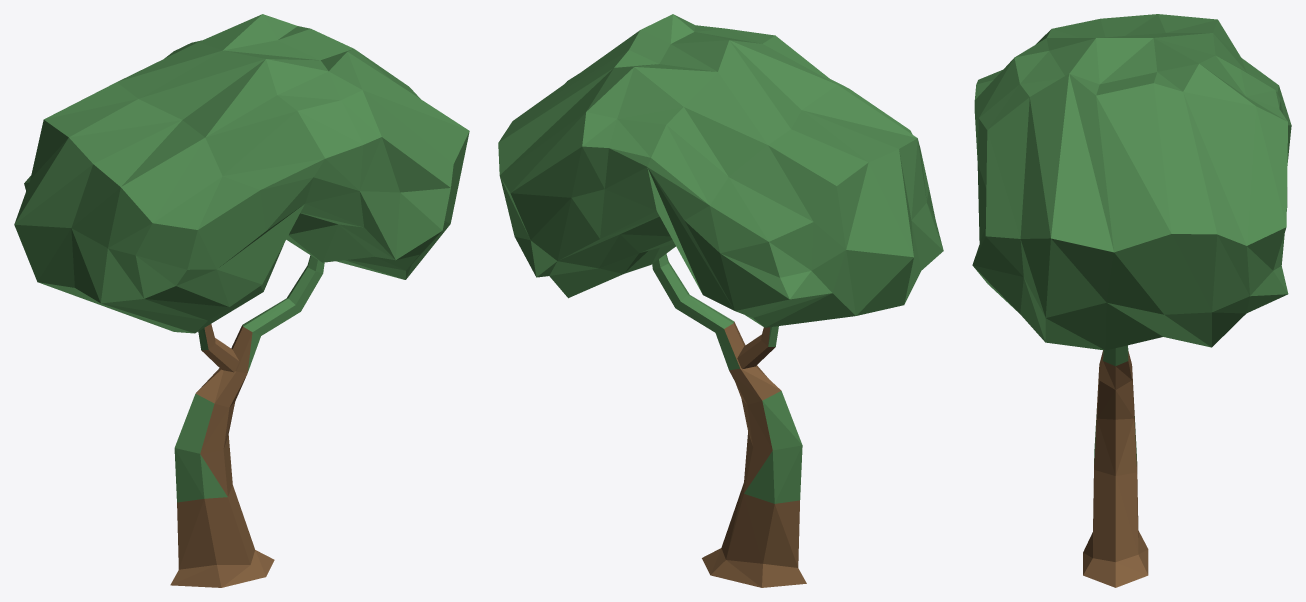
Rendered from tree3d-050.glb.
3 renders of one model, left to right at view 1: azimuth 30°, elevation 25°; view 2: azimuth 150°, elevation 25°; view 3: azimuth 270°, elevation 25°, orthographic. The views are drawn at different scales.
Parts seen in each view (by area): view 1: tree3d-050; view 2: tree3d-050; view 3: tree3d-050.
Boxes of the visible parts, <box> form: tree3d-050: <box>14,14,469,587</box>; tree3d-050: <box>498,14,943,587</box>; tree3d-050: <box>972,14,1291,587</box>.
Bounding box in the file's own units: 0.8202 × 1 × 0.5353.
